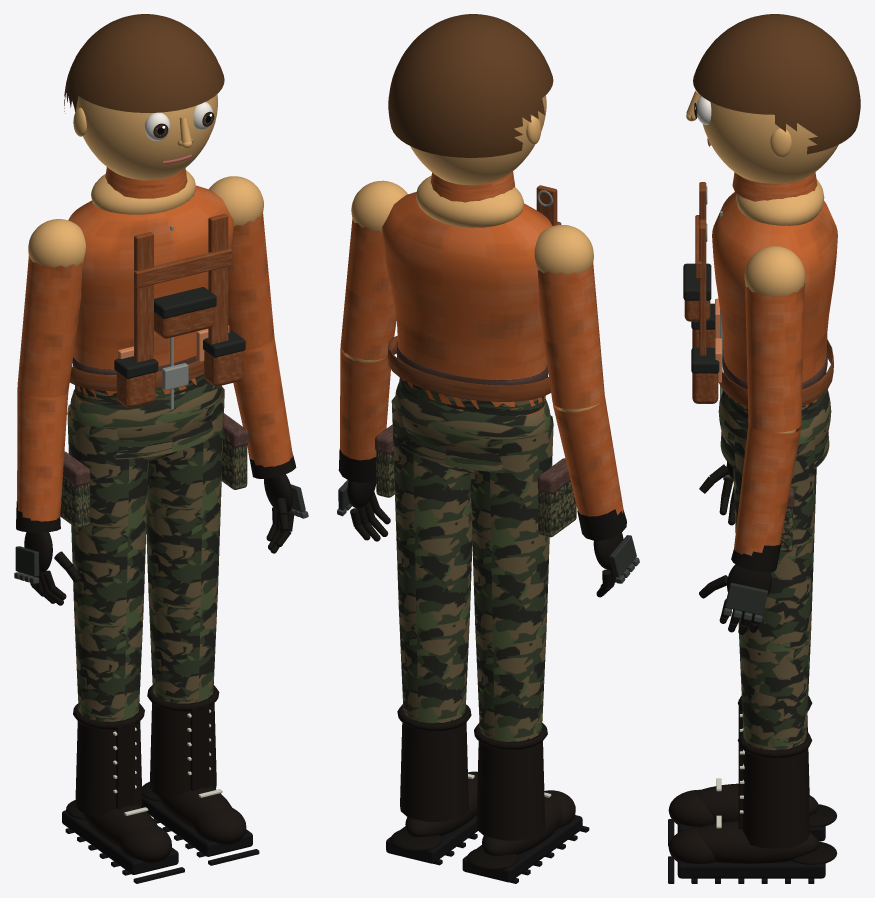
The model's file is 07-harnais-complet.glb.
The picture shows the model from 3 angles, left to right: view 1: azimuth 30°, elevation 25°; view 2: azimuth 150°, elevation 25°; view 3: azimuth 270°, elevation 25°; orthographic projection. The views are drawn at different scales.
Size of the model in its own units: 0.6344 by 1.77 by 0.3715.
Materials: 28 (5 with a texture image).
